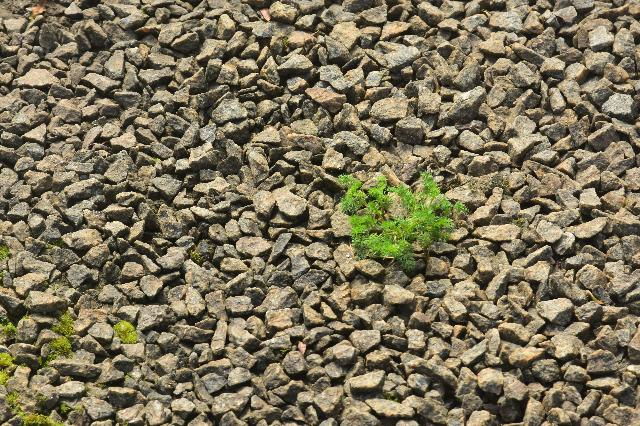MalezaMontesDelPlata: (327, 164, 473, 271)
MusgoMontesDelPlata: (33, 307, 83, 370), (0, 393, 77, 423), (101, 307, 150, 353), (0, 314, 26, 385), (0, 237, 14, 270)
